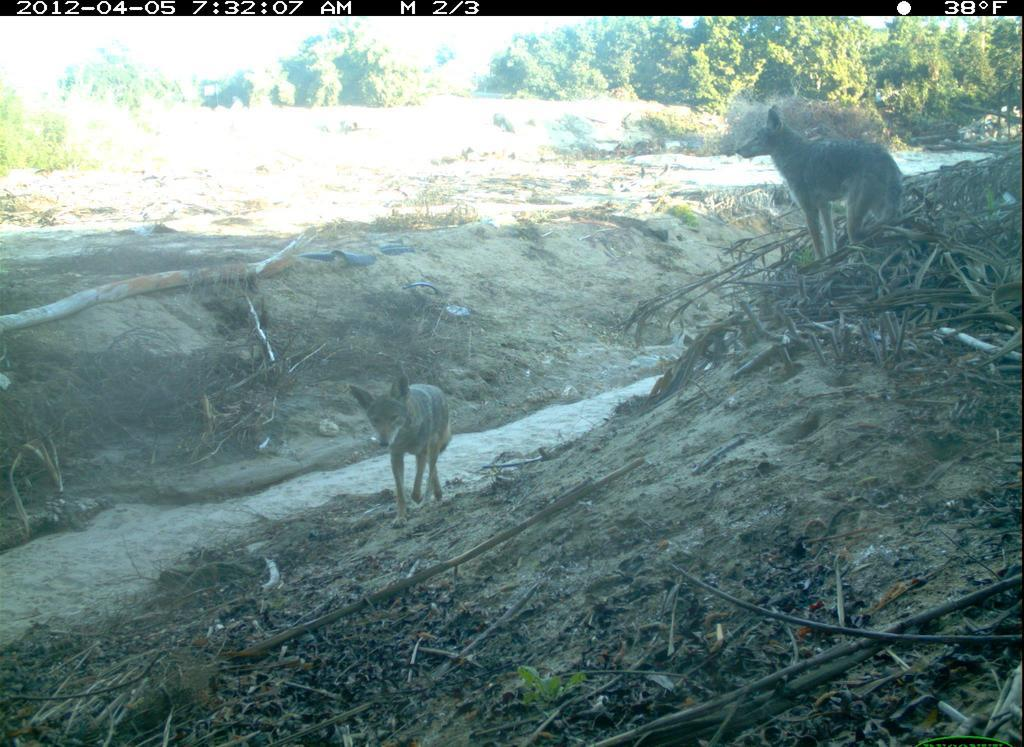coyote: (722, 103, 922, 254), (344, 356, 468, 506)
